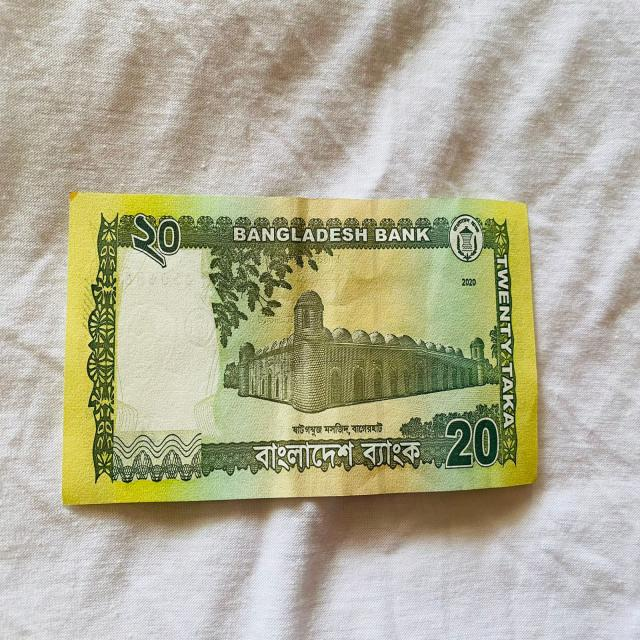Taka: (57, 179, 546, 507)
